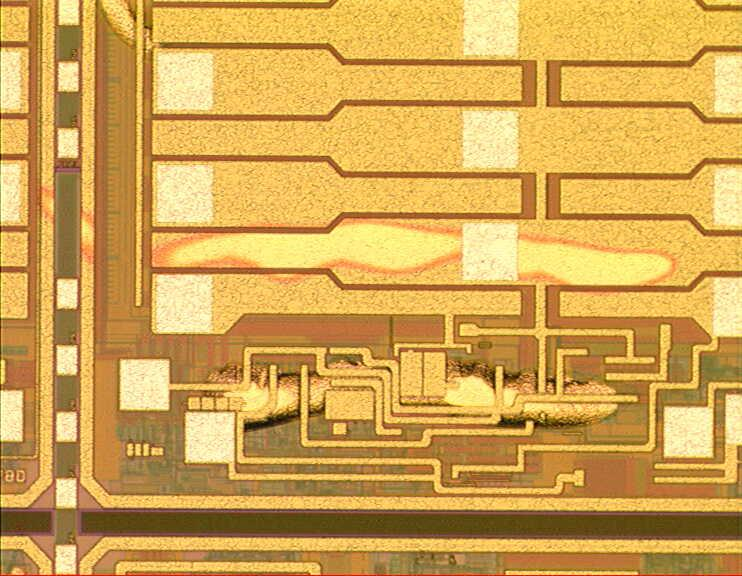COATING BAD: (31, 1, 679, 436)
